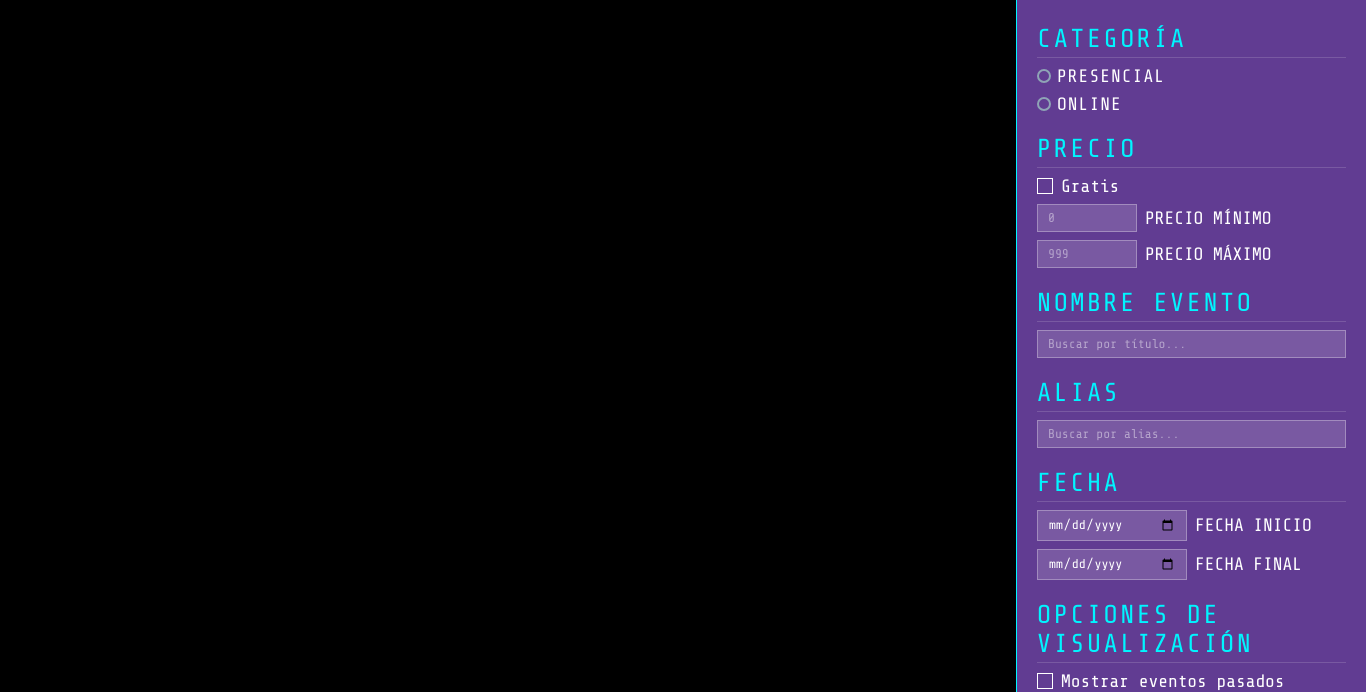
it: FilterPanel › limpia priceMin y priceMax al marcar 'Gratis'
This screenshot has width=1366, height=692.
Type "10" into the number field with placeholder "0" at x=1087, y=218, box top-left (1037, 204), bottom-right (1137, 232)
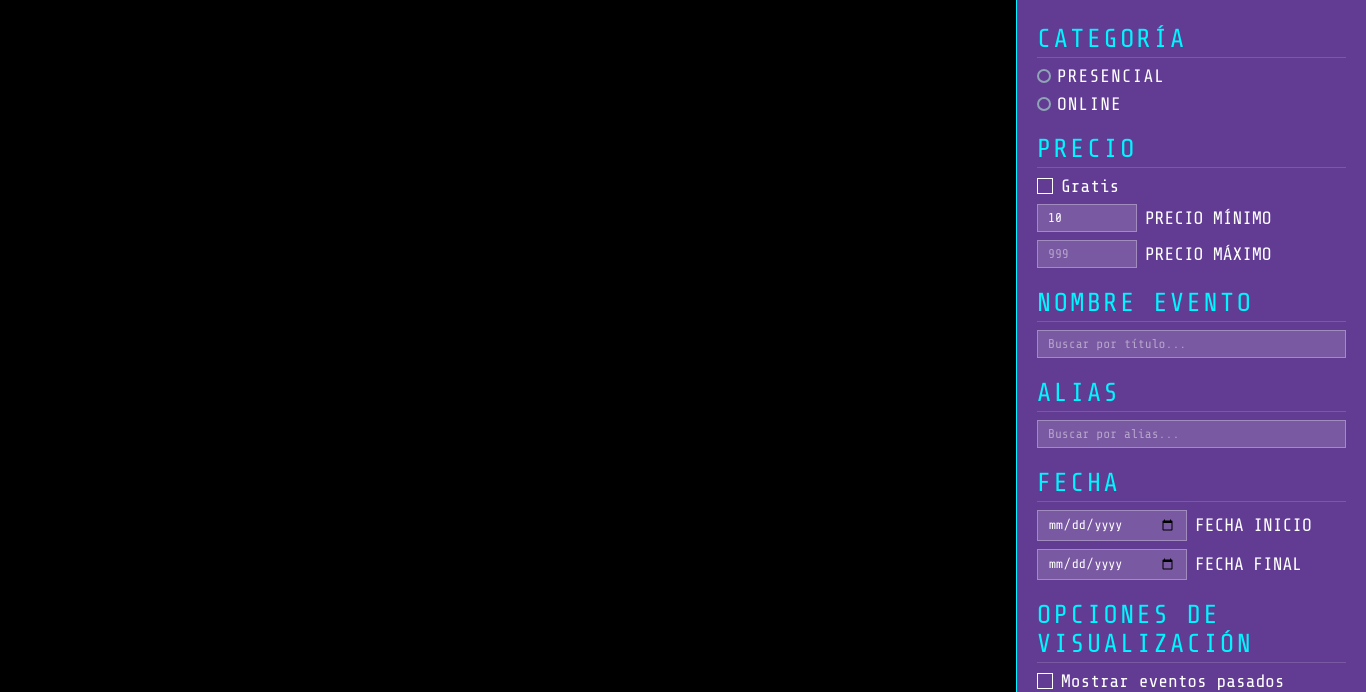
Type "50" into the number field with placeholder "999" at x=1087, y=254, box top-left (1037, 240), bottom-right (1137, 268)
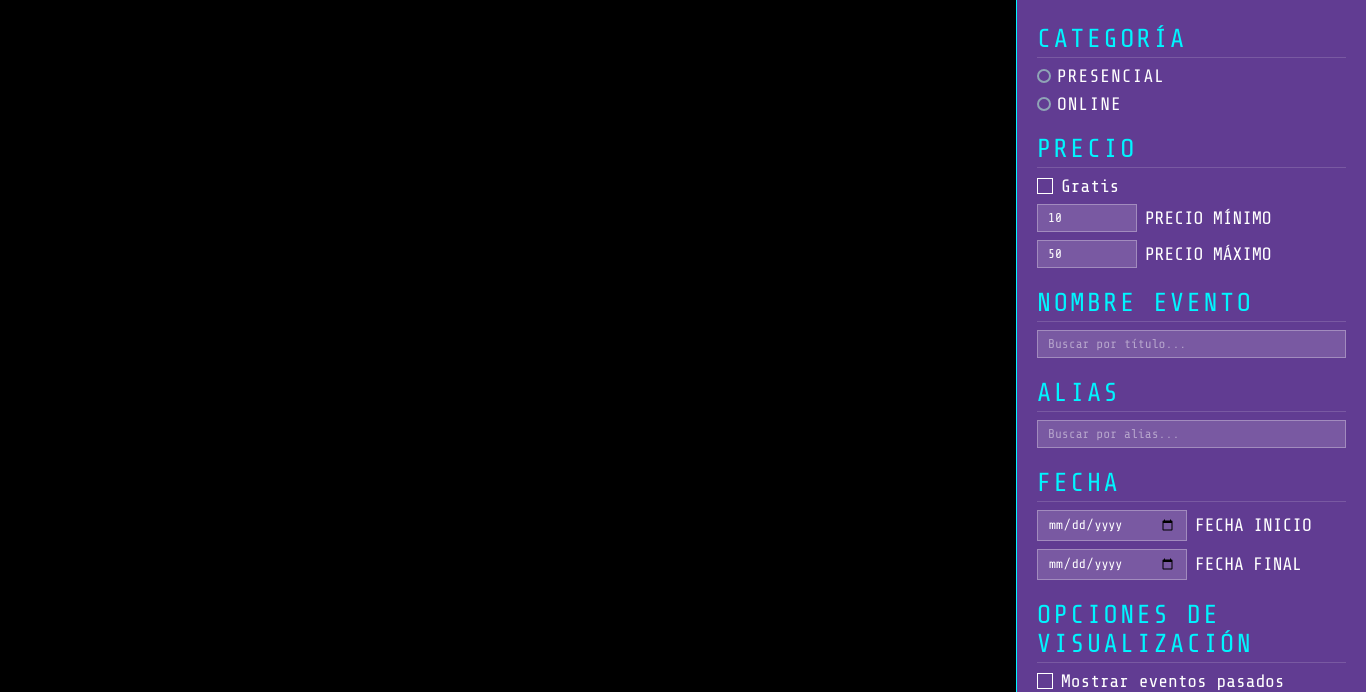
Click the checkbox labelled "Gratis" at x=1045, y=186, box top-left (1037, 178), bottom-right (1053, 194)
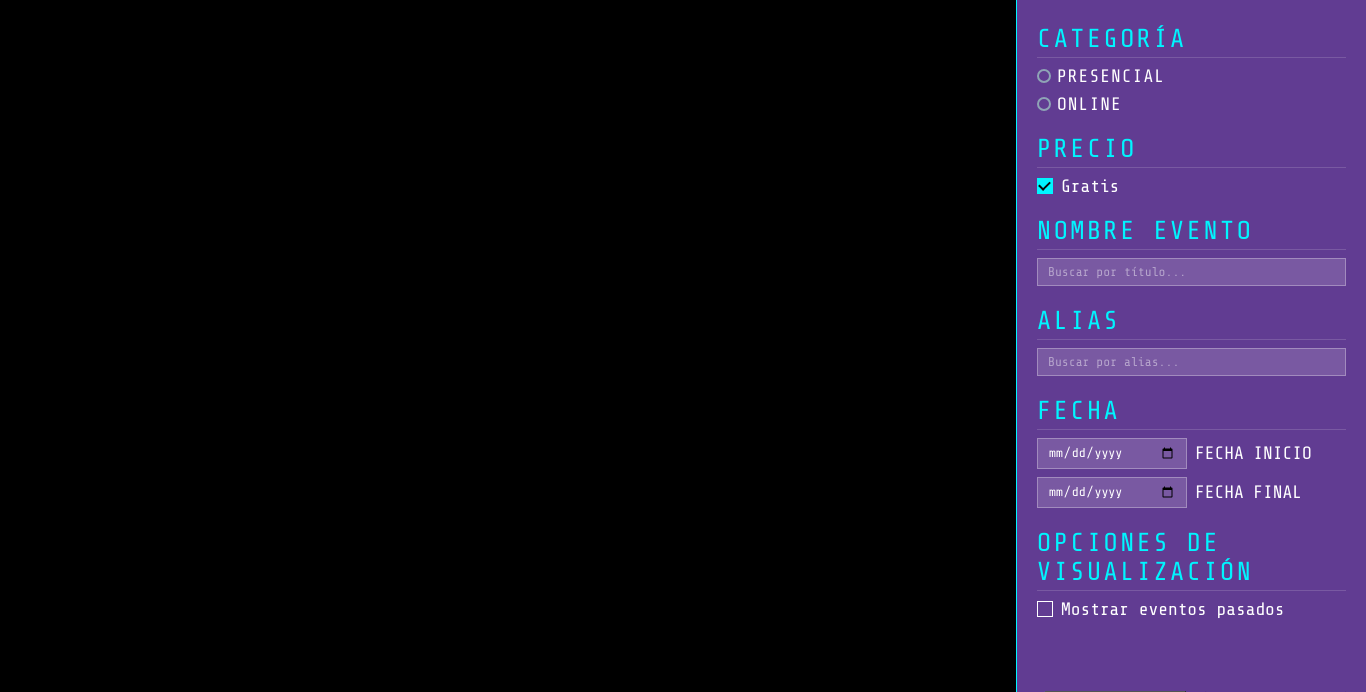
Expected: the number field with placeholder "0" is gone
